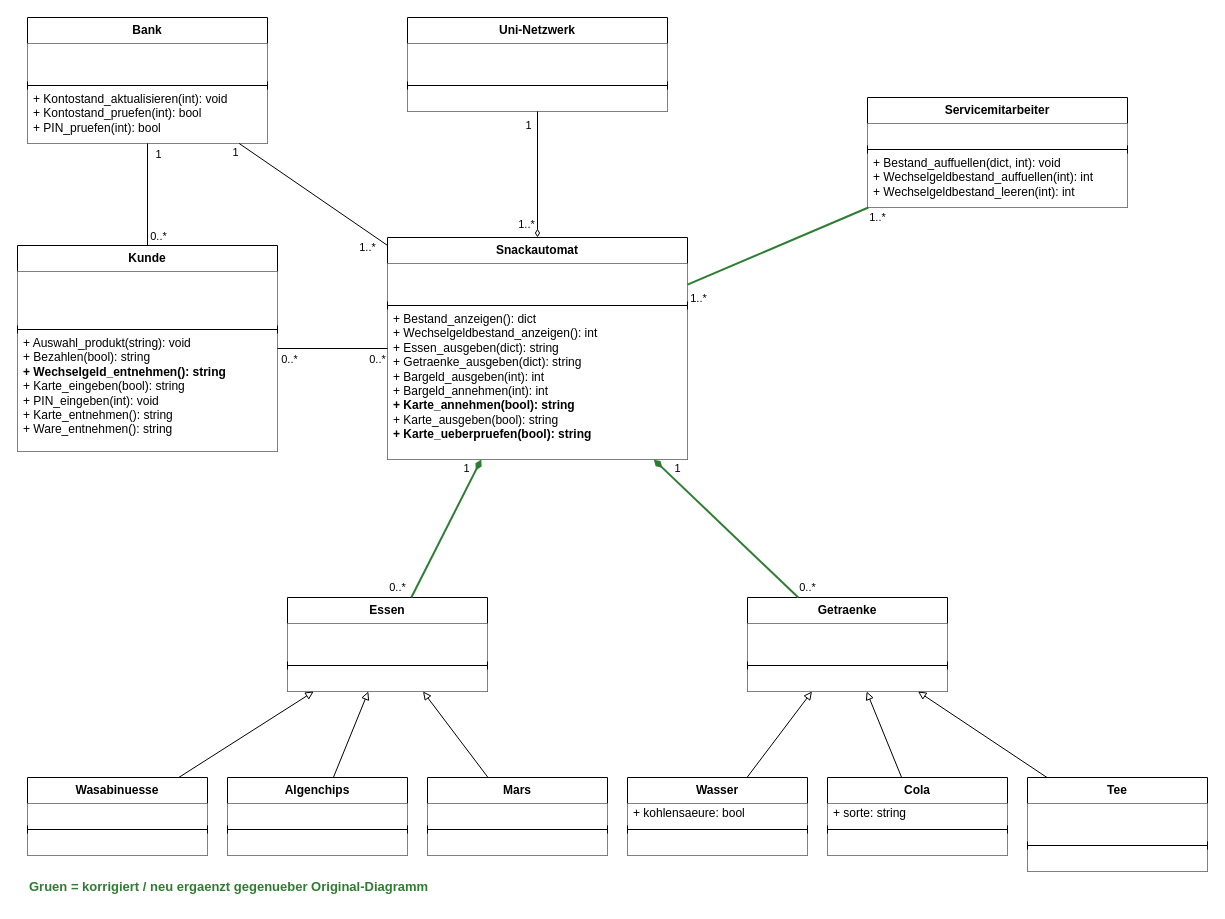
The diagram is 1225 pixels wide and 919 high, and some of its shapes have lost their labels. The shapes that lost their labels are listed below. From the top down, each one's centre as x and y in pixels, then its label:
(147,62): + kontostand_kunde: int + karte_gueltigkeit: bool
(537,62): + bestand: dict + anzahl_snackautomaten: int
(537,100): + Servicecall(bool): void
(997,134): + name: string
(147,298): + kontostand: int + bargeld: int + nutzt_karte: bool
(537,282): + bestand: dict + wechselgeldbestand: int
(387,642): + verpackung: string + menge_gramm: int
(847,642): + verpackung: string + menge_liter: int
(1117,822): + sorte: string + kalt: bool
